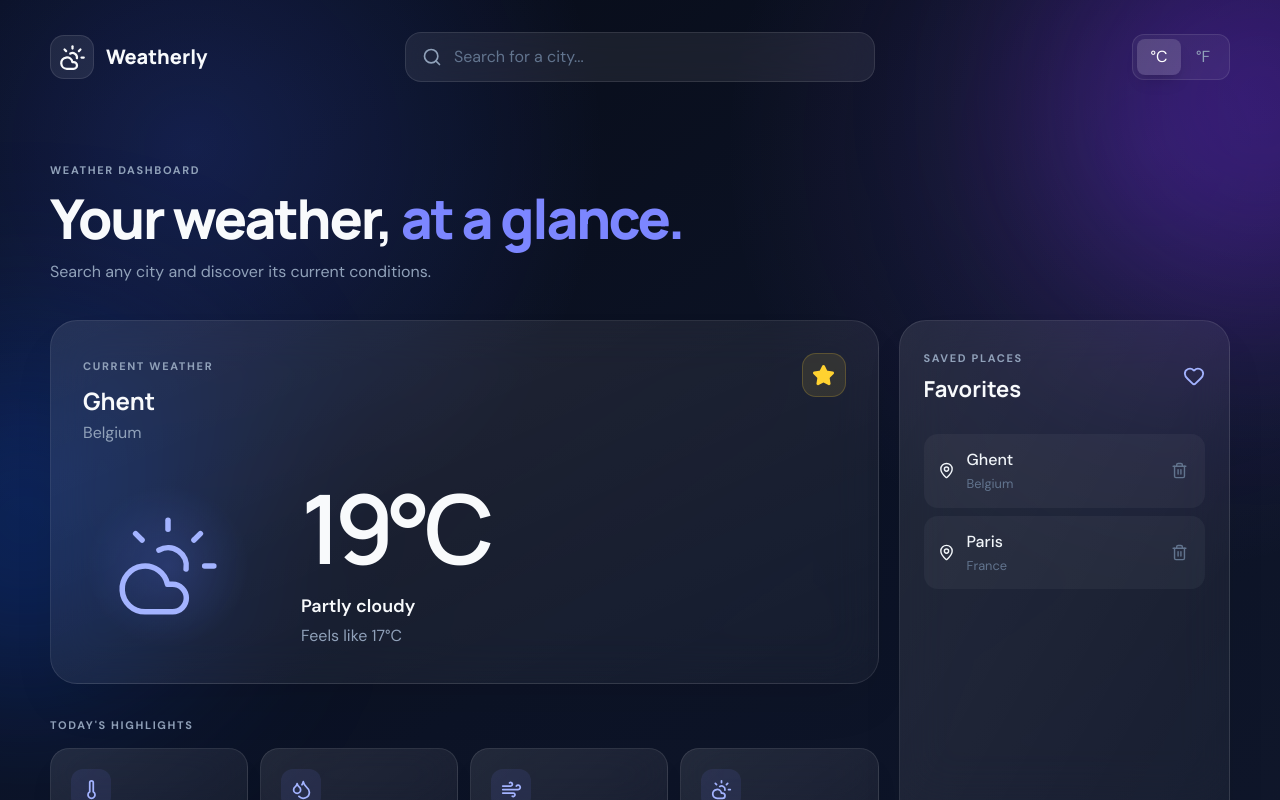
Test: City search › shows the search results
In the field with test id "city-search-input": (656,57) [454, 45, 858, 69], type "Ghent"
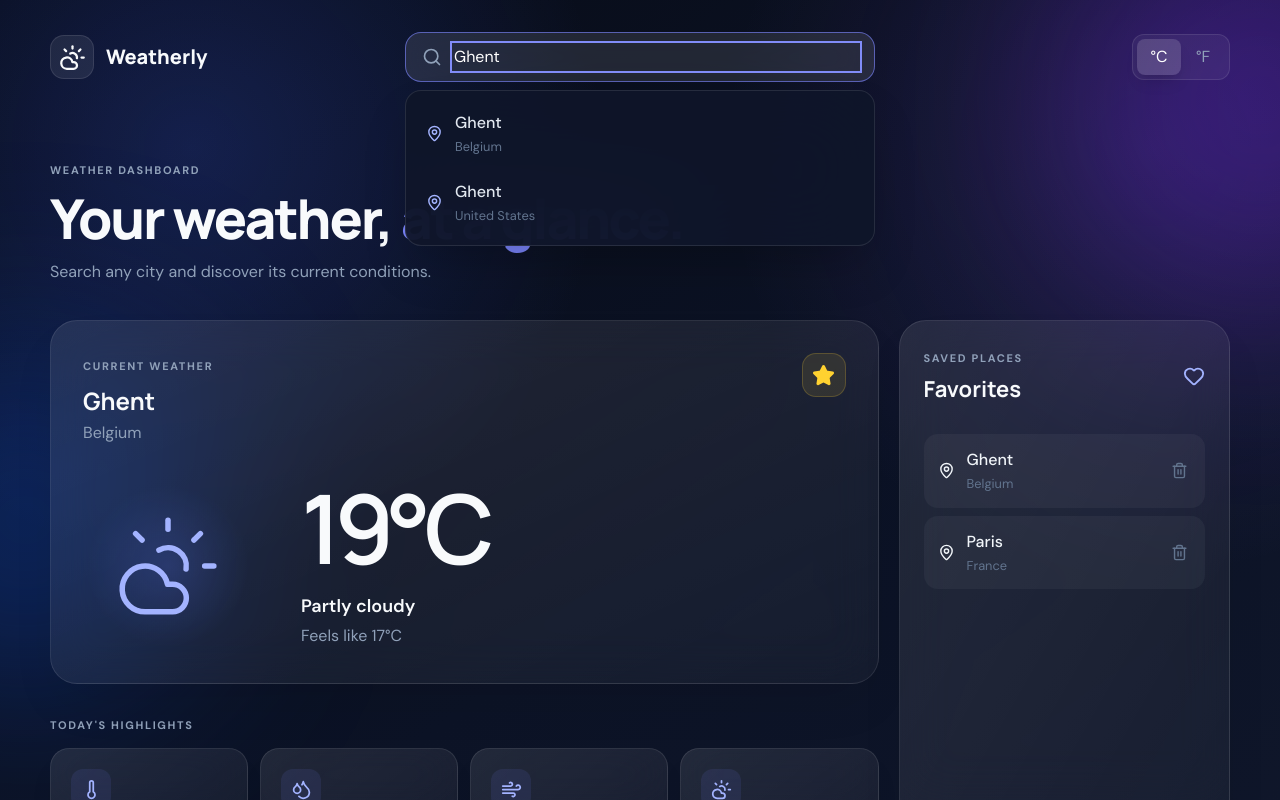
Expected: the number of buttons with test id "city-option" is 2, [414, 99, 866, 168]; [414, 168, 866, 237]
Expected: the button with test id "city-option" shows "Belgium", [414, 99, 866, 168]
Expected: the button with test id "city-option" shows "United States", [414, 168, 866, 237]
